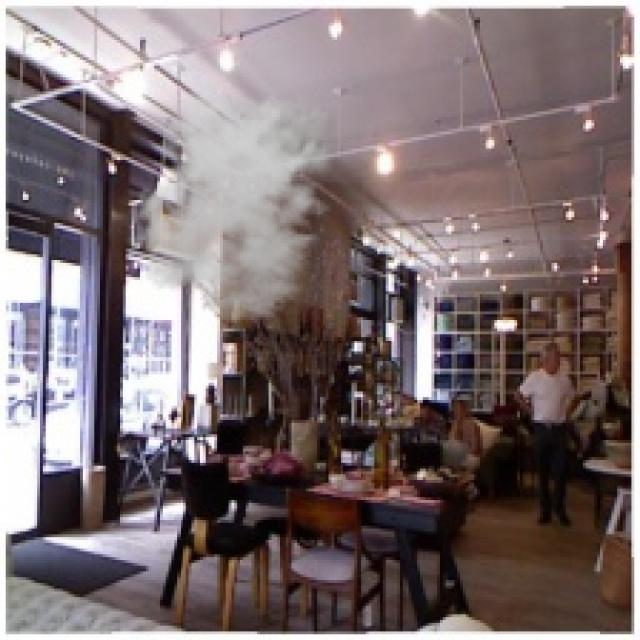smoke: (128, 80, 346, 323)
